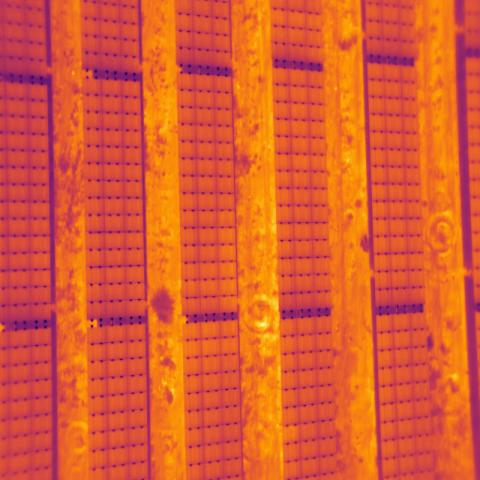fault: (283, 426, 301, 444)
